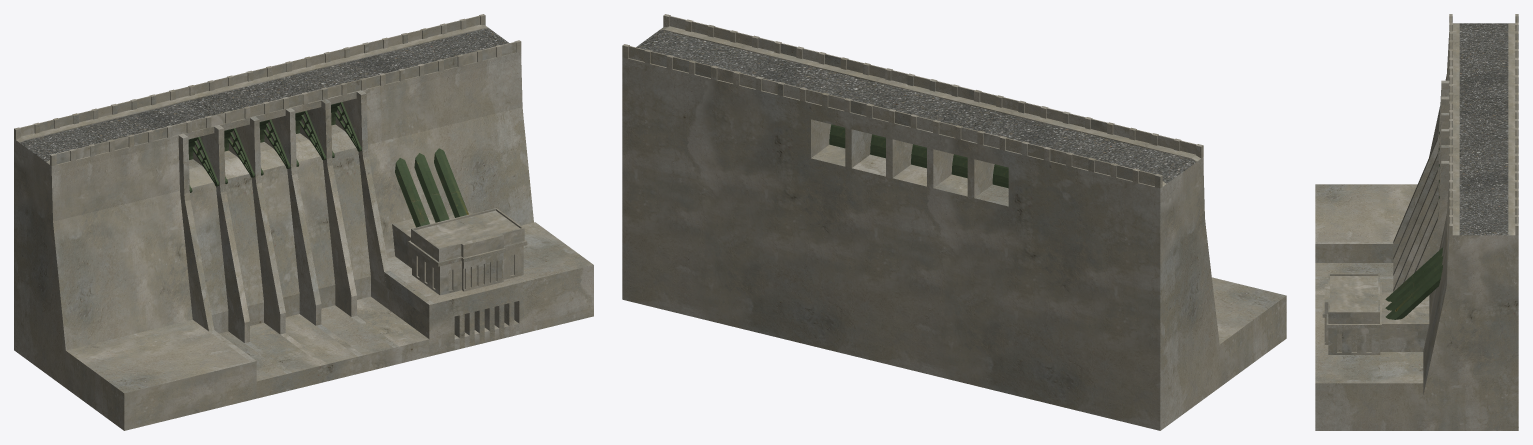
Rendered from gravity_dam.glb.
3 views of the same model, side by side, from view 1: azimuth 30°, elevation 25°; view 2: azimuth 150°, elevation 25°; view 3: azimuth 270°, elevation 25° (orthographic). The views are drawn at different scales.
Parts seen in each view (by area): view 1: dam_6, dam-top_7, powerhouse_5, penstocks_4, gate-1_8, gate-4_11, gate-2_9, gate-3_10, gate-5_12; view 2: dam_6, dam-top_7; view 3: dam_6, dam-top_7, powerhouse_5, penstocks_4.
Boxes of the visible parts, x1,y1,x2,y2 form: dam_6: (14,52,593,430); dam-top_7: (14,14,521,165); powerhouse_5: (392,208,527,295); penstocks_4: (395,148,468,227); gate-1_8: (188,136,219,192); gate-4_11: (295,110,326,166); gate-2_9: (224,128,254,183); gate-3_10: (259,119,290,175); gate-5_12: (331,102,361,157); dam_6: (622,57,1286,430); dam-top_7: (622,14,1203,188); dam_6: (1315,32,1518,430); dam-top_7: (1449,14,1518,235); powerhouse_5: (1322,273,1429,354); penstocks_4: (1385,247,1443,319).
Size of the model in its own units: 29.3 by 13.22 by 11.9.
Materials: 6 (6 with a texture image).
